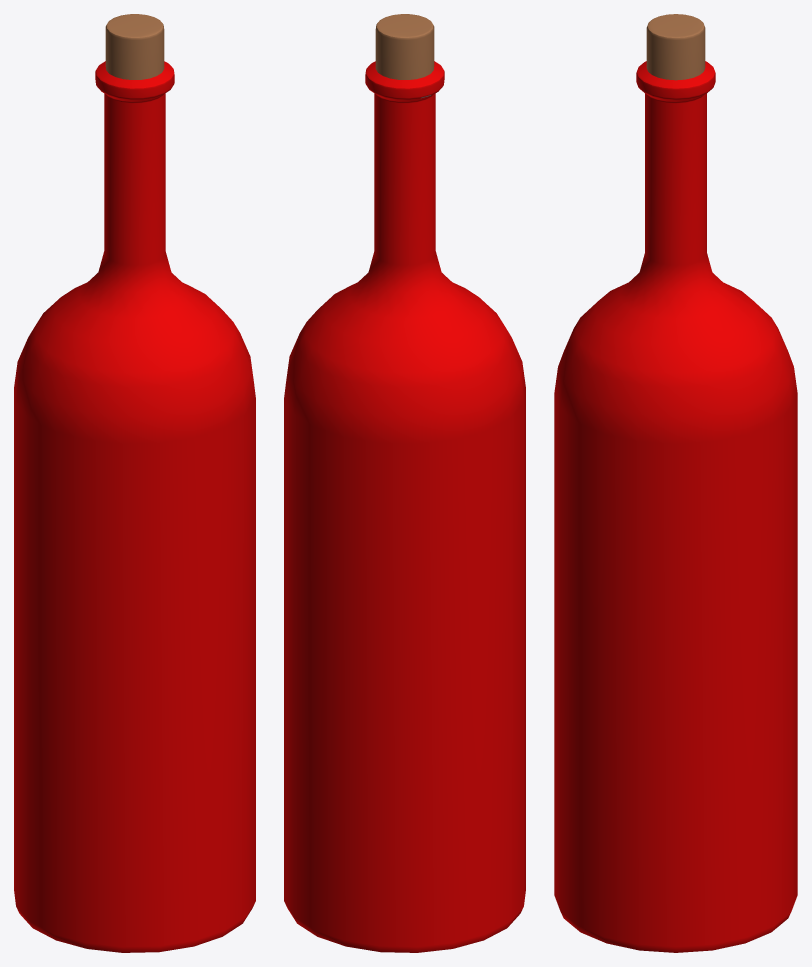
Rendered from SM_Bouteille_Vin.fbx.
The picture shows the model from 3 angles, left to right: view 1: azimuth 30°, elevation 25°; view 2: azimuth 150°, elevation 25°; view 3: azimuth 270°, elevation 25°; orthographic projection.
Parts seen in each view (by area): view 1: Bouteille_Vin; view 2: Bouteille_Vin; view 3: Bouteille_Vin.
Boxes of the visible parts, x1=… form: Bouteille_Vin: x1=14, y1=14, x2=255, y2=952; Bouteille_Vin: x1=284, y1=14, x2=525, y2=952; Bouteille_Vin: x1=554, y1=14, x2=797, y2=952.
Bounding box in the file's own units: 2 × 8 × 2.
